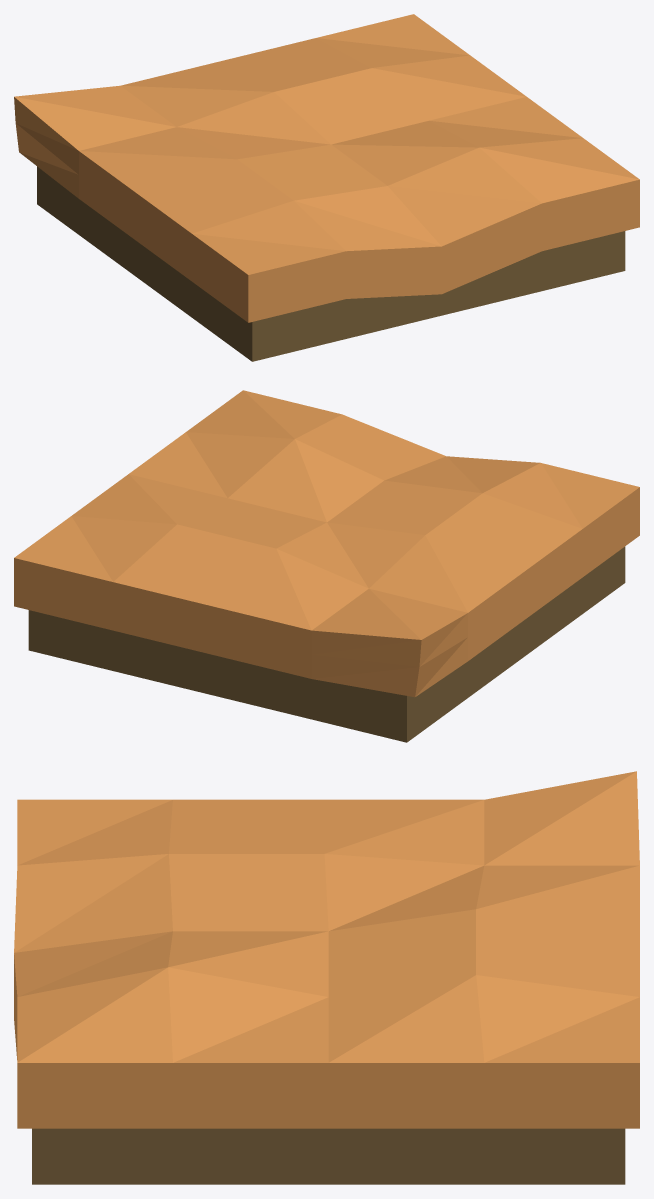
The model's file is GroundSand.fbx.
3 renders of one model, top to bottom at view 1: azimuth 30°, elevation 25°; view 2: azimuth 150°, elevation 25°; view 3: azimuth 270°, elevation 25°, orthographic. The views are drawn at different scales.
Visible parts, largest first — view 1: Cube; view 2: Cube; view 3: Cube.
Part boxes in pixels (x1,y1,x2,y2): Cube: (14, 14, 639, 361); Cube: (14, 390, 639, 742); Cube: (14, 771, 639, 1184).
Size of the model in its own units: 1719 by 453 by 1688.
